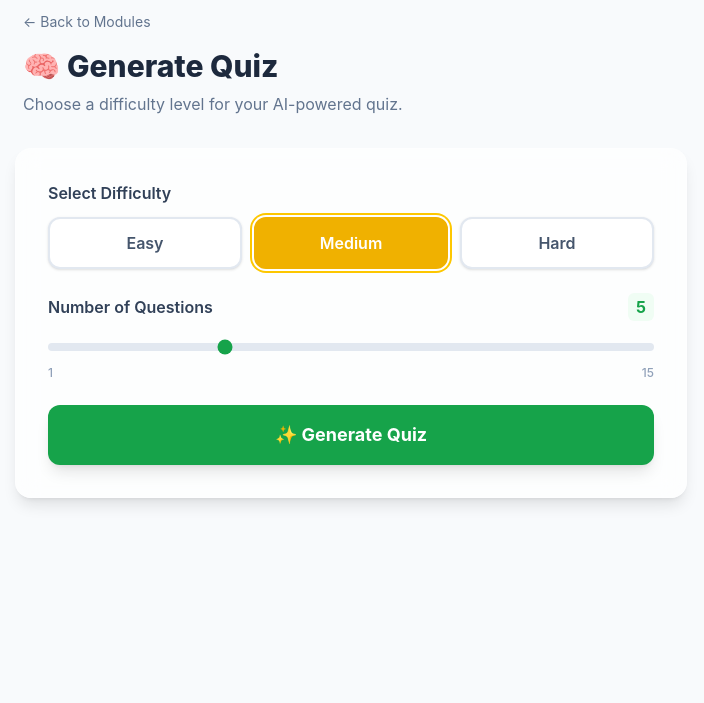
Test: QuizTakingView › displays first question and progress indicator after quiz loads
Click the button "✨ Generate Quiz": (351, 435) [48, 405, 654, 465]
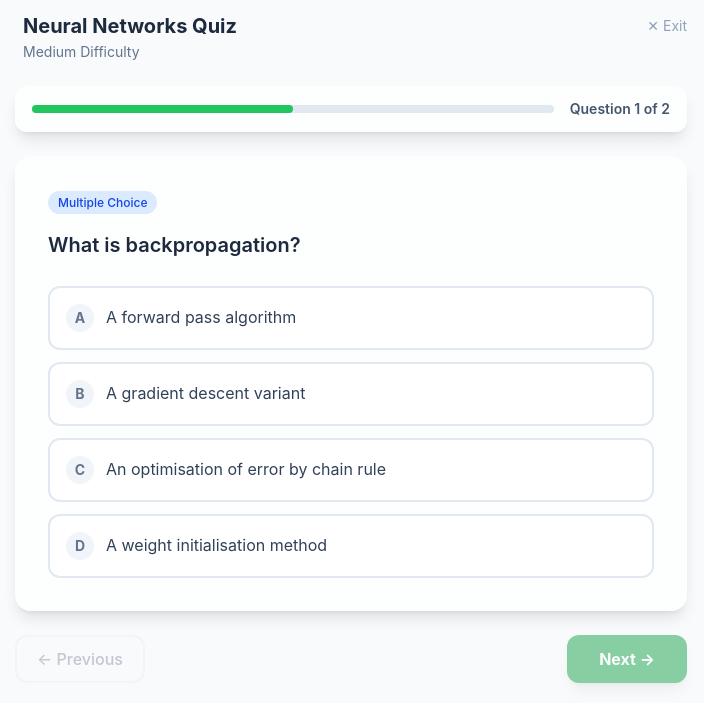
Result: the text "What is backpropagation?" is shown at [48, 233, 301, 257]
Result: the text "Question 1 of 2" is shown at [570, 99, 670, 119]
